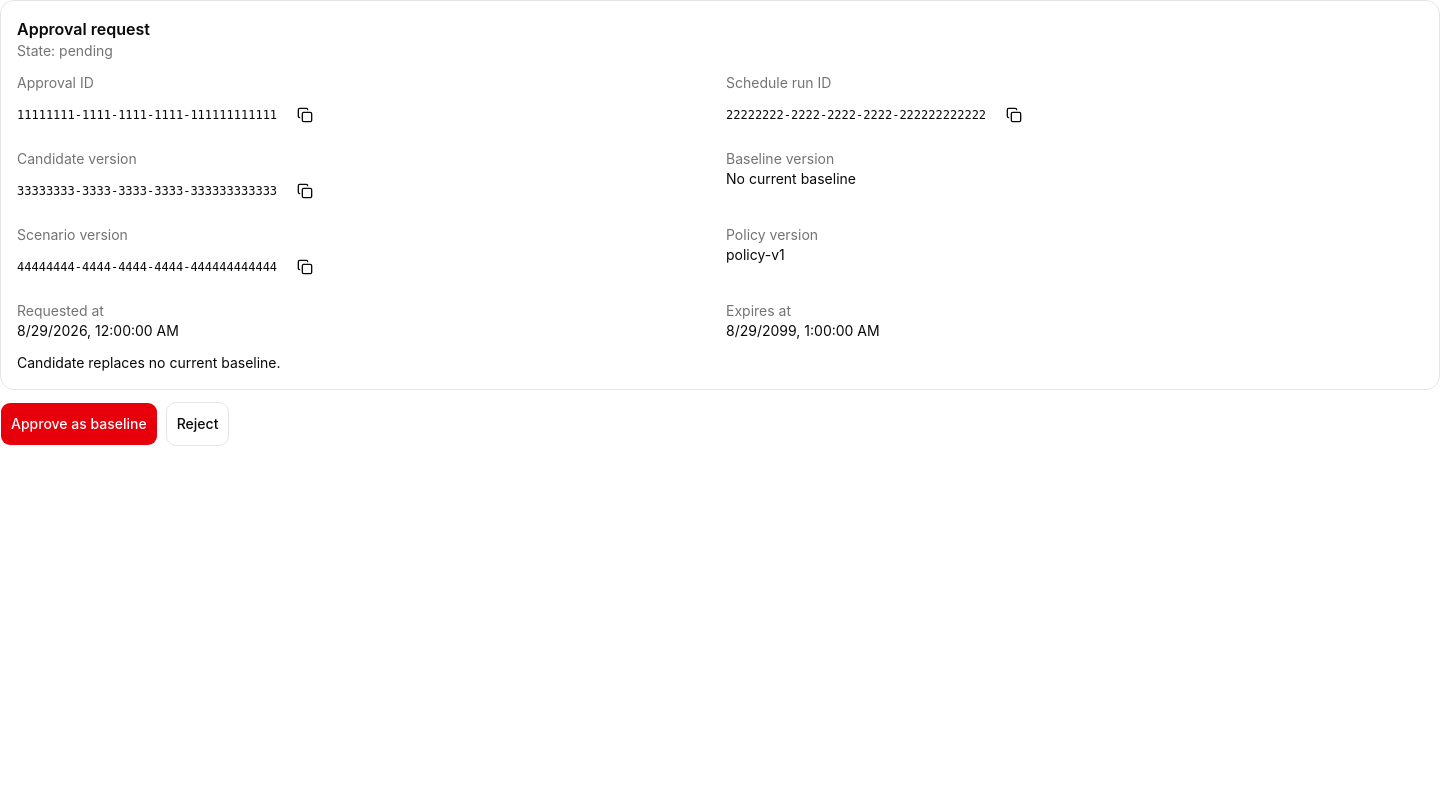
ApprovalDecisionPanel › opens a named confirmation dialog without mutating on the first click
This screenshot has width=1440, height=810.
Click the button "Approve as baseline": point(79, 424) [0, 402, 158, 446]
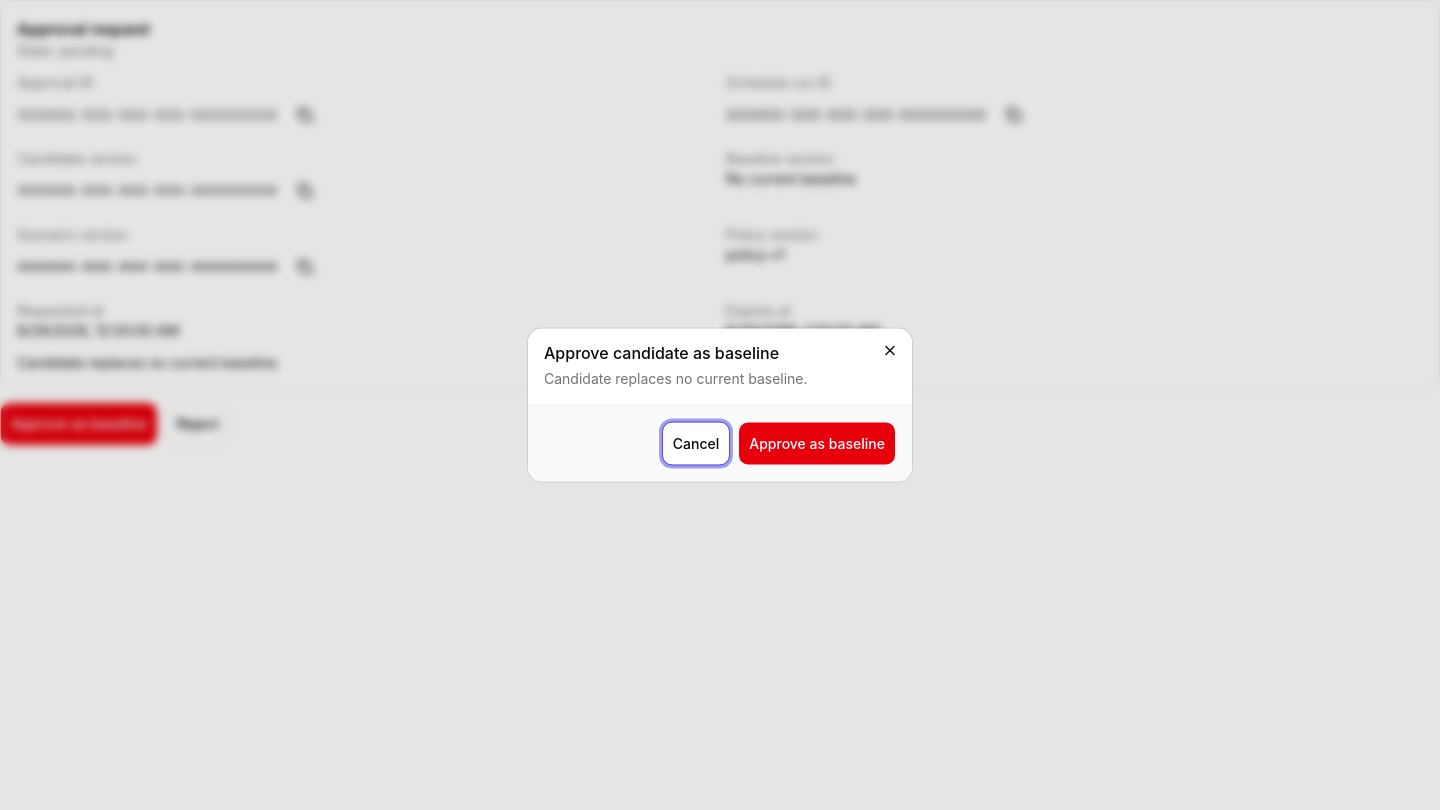
Expected: the dialog "Approve candidate as baseline" is shown, [528, 328, 912, 482]
Expected: the button "Approve as baseline" is shown, [738, 422, 896, 466]
